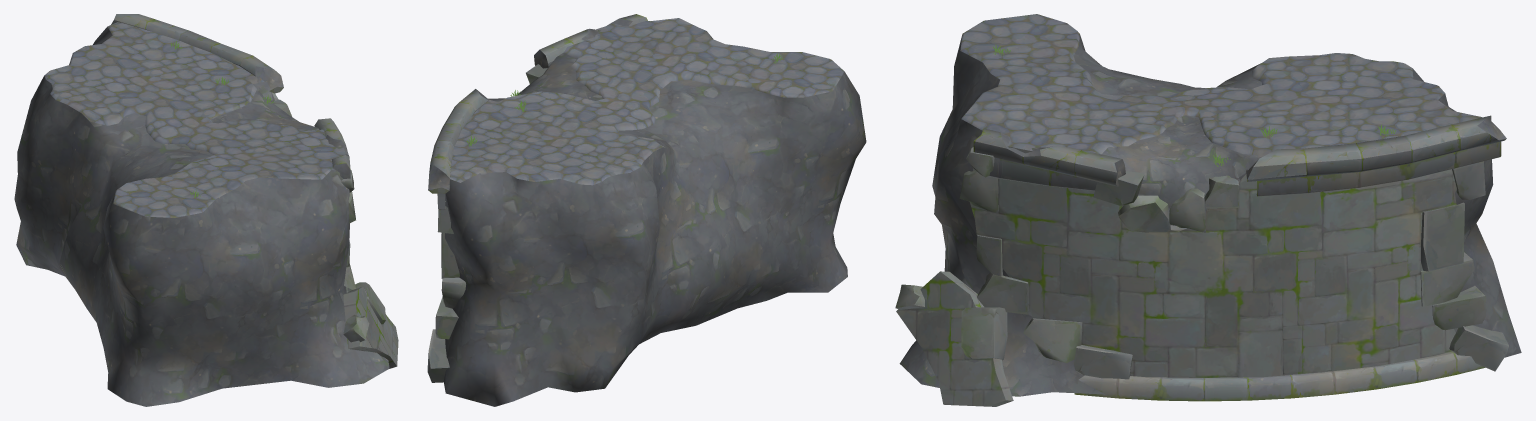
Rendered from Area_MdBuild_SdPlatform13_01_Group.fbx.
The picture shows the model from 3 angles, left to right: view 1: azimuth 30°, elevation 25°; view 2: azimuth 150°, elevation 25°; view 3: azimuth 270°, elevation 25°; orthographic projection. The views are drawn at different scales.
Visible parts, largest first — view 1: Area_MdBuild_SdPlatform13_01_Lod0; view 2: Area_MdBuild_SdPlatform13_01_Lod0; view 3: Area_MdBuild_SdPlatform13_01_Lod0.
Boxes of the visible parts, x1,y1,x2,y2 form: Area_MdBuild_SdPlatform13_01_Lod0: (14, 14, 398, 406); Area_MdBuild_SdPlatform13_01_Lod0: (427, 14, 866, 406); Area_MdBuild_SdPlatform13_01_Lod0: (895, 14, 1521, 406).
Bounding box in the file's own units: 15.59 × 11.13 × 24.21.
6 materials, 6 textured.
